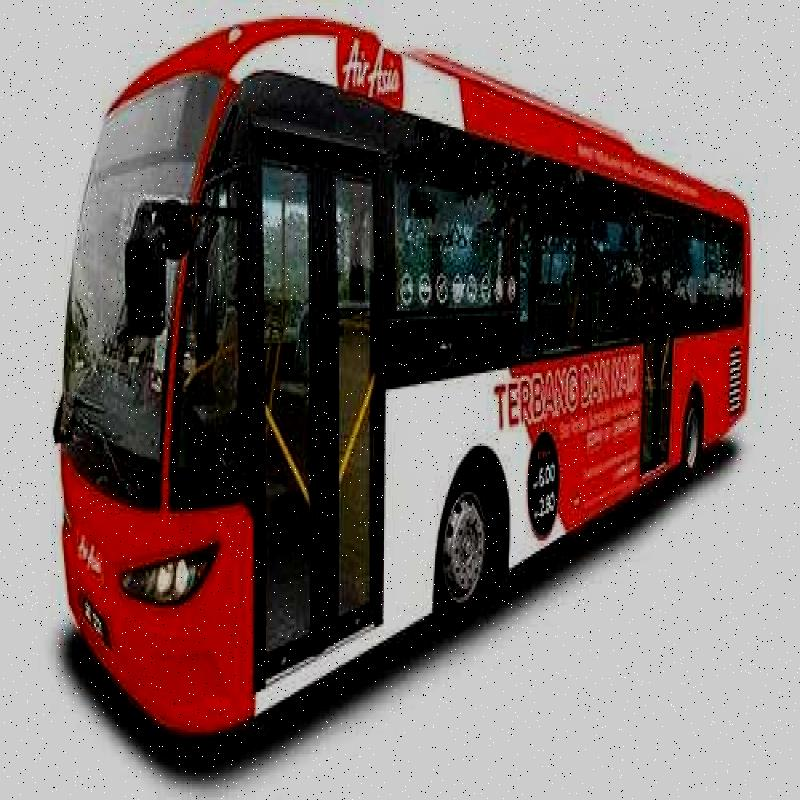bus: (54, 13, 756, 732)
